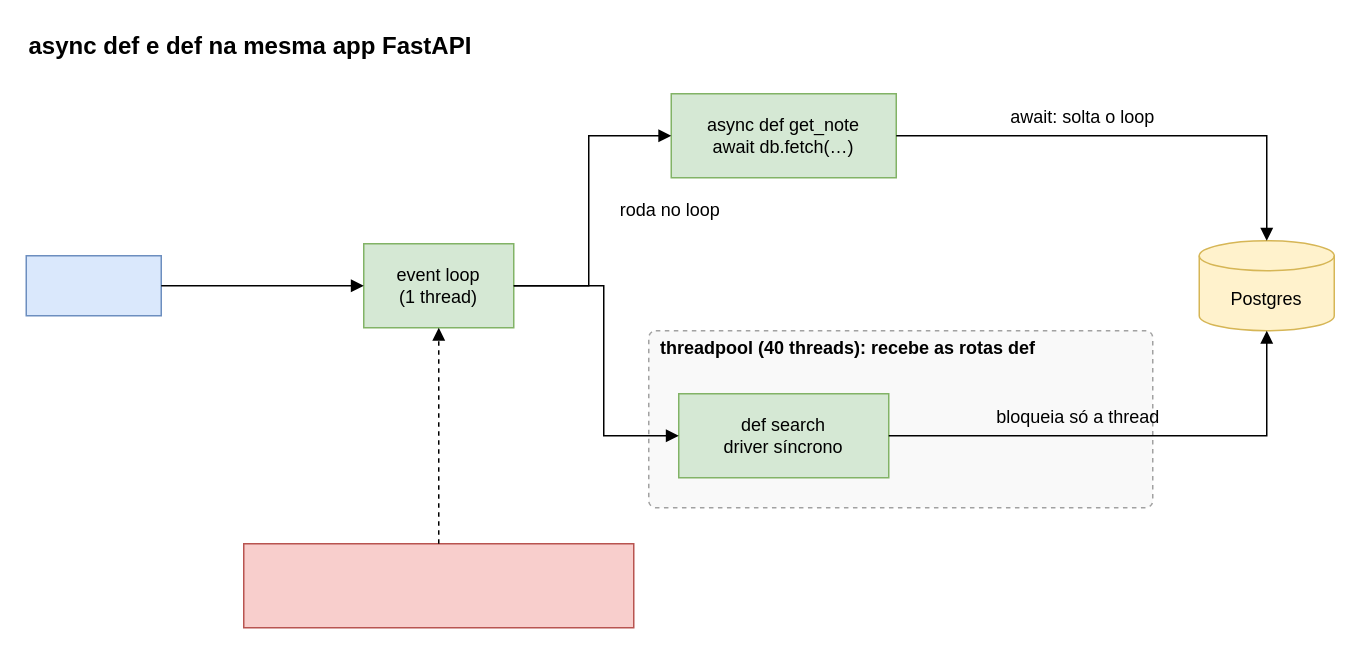
Image size: 1361x654. Some labels were removed from this diagram. Here are the shapes that lost their labels. From the top down, the centre of each, then its label:
At point (93, 285): "clientes".
At point (438, 585): "time.sleep() dentro de async def = loop parado, todos esperam".
